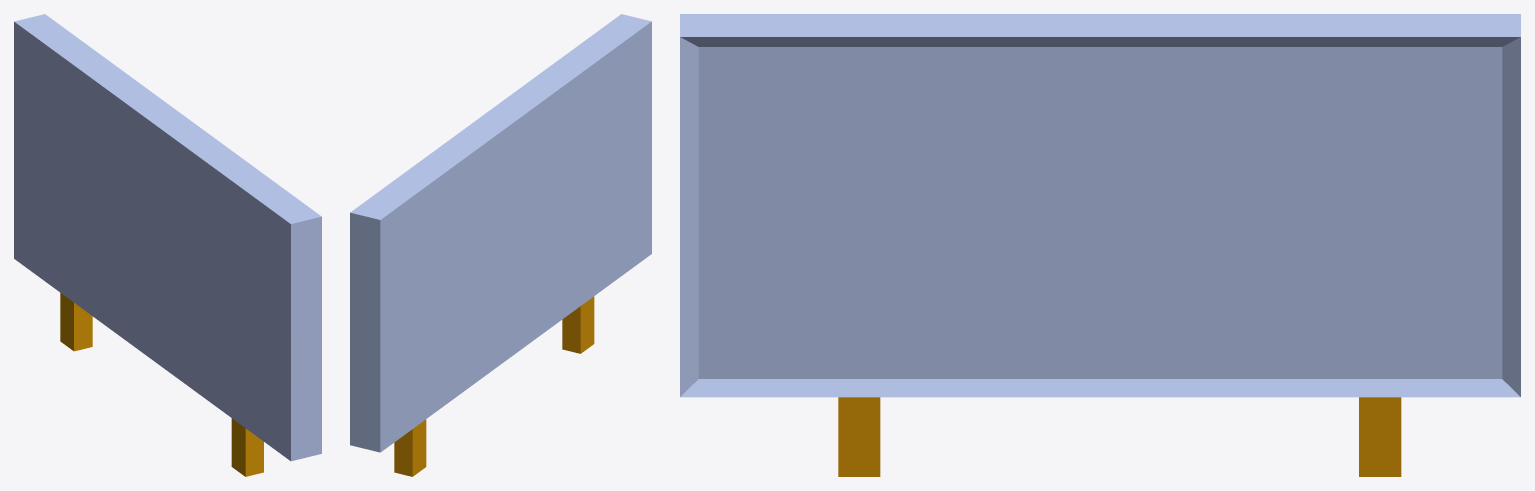
The model's file is Cartel.fbx.
The picture shows the model from 3 angles, left to right: view 1: azimuth 30°, elevation 25°; view 2: azimuth 150°, elevation 25°; view 3: azimuth 270°, elevation 25°; orthographic projection. The views are drawn at different scales.
Visible parts, largest first — view 1: Cube, Cubo.001, Cubo; view 2: Cube, Cubo, Cubo.001; view 3: Cube, Cubo, Cubo.001.
Boxes of the visible parts, <box> form: Cube: <box>14,14,321,461</box>; Cubo.001: <box>231,418,263,476</box>; Cubo: <box>60,293,92,351</box>; Cube: <box>350,14,651,452</box>; Cubo: <box>394,419,426,476</box>; Cubo.001: <box>562,296,594,353</box>; Cube: <box>680,14,1520,397</box>; Cubo: <box>1359,397,1401,476</box>; Cubo.001: <box>838,397,880,476</box>.
Bounding box in the file's own units: 73.43 × 663 × 1136.
